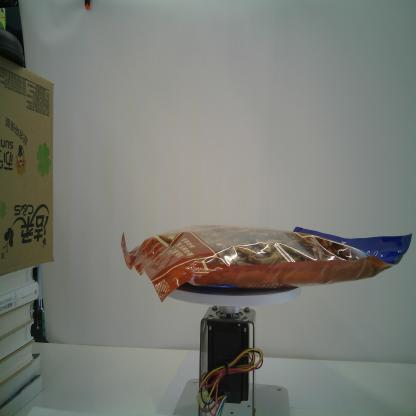Dried Food: (119, 224, 414, 303)
